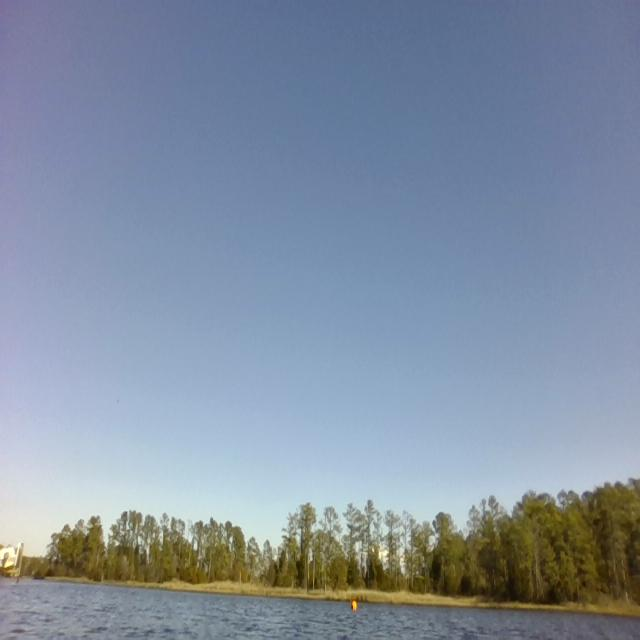Buoy: (347, 594, 361, 615)
